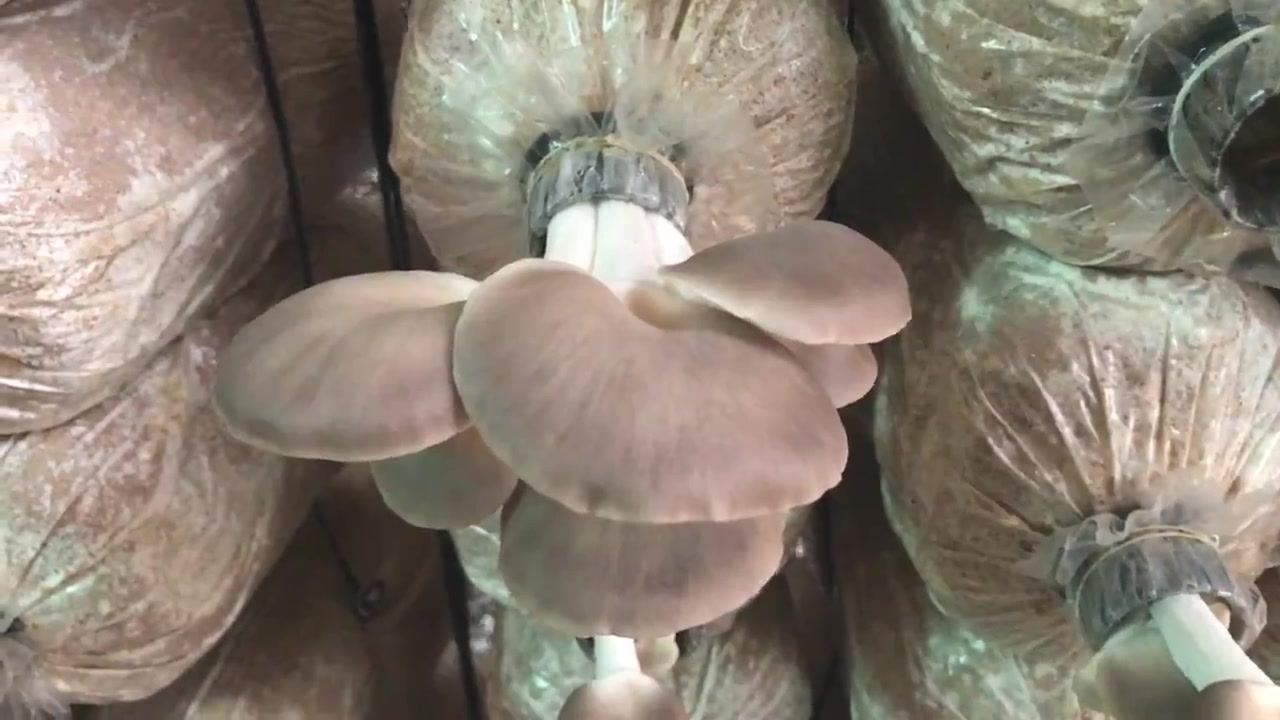nam: (220, 143, 911, 639), (1076, 531, 1280, 720), (561, 630, 685, 719)
